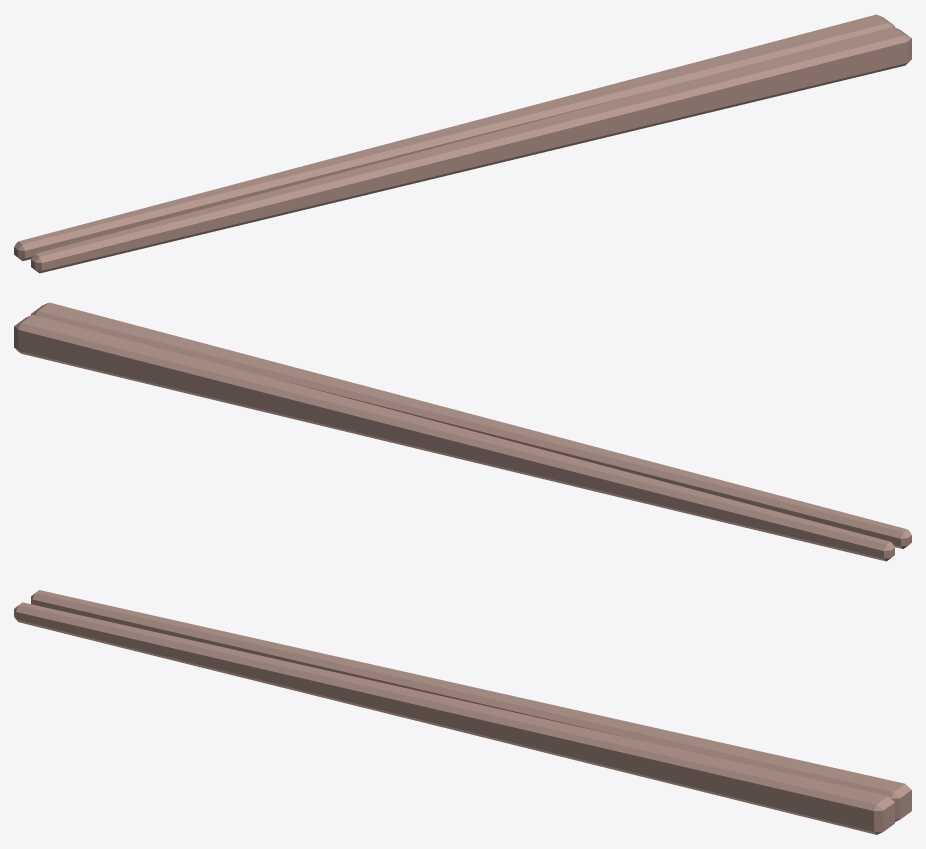
Rendered from Chopsticks.fbx.
3 renders of one model, top to bottom at view 1: azimuth 30°, elevation 25°; view 2: azimuth 150°, elevation 25°; view 3: azimuth 330°, elevation 25°, orthographic.
Visible parts, largest first — view 1: Chopstick2, Chopstick1; view 2: Chopstick1, Chopstick2; view 3: Chopstick2, Chopstick1.
Part boxes in pixels (x1,y1,x2,y2): Chopstick2: (31,27,911,273); Chopstick1: (14,14,894,260); Chopstick1: (14,315,894,561); Chopstick2: (31,302,911,548); Chopstick2: (14,602,894,834); Chopstick1: (31,590,911,821).
Bounding box in the file's own units: 7.5 × 0.2518 × 0.4999.
